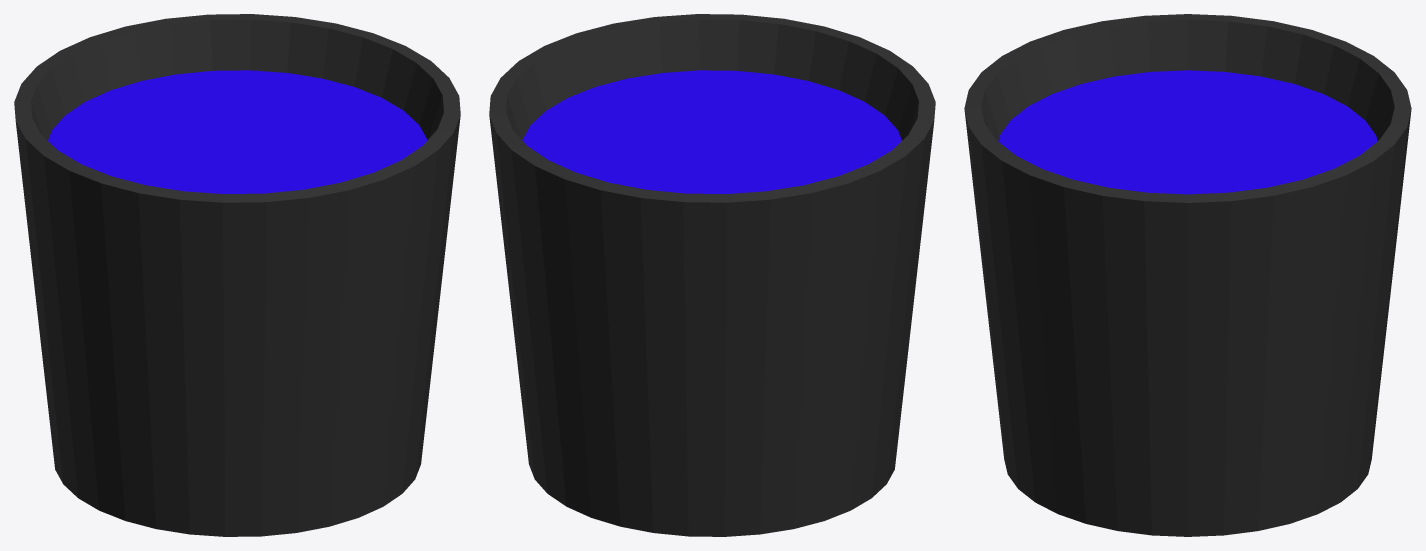
File: item_waterbucket-filled.glb
The picture shows the model from 3 angles, left to right: view 1: azimuth 30°, elevation 25°; view 2: azimuth 150°, elevation 25°; view 3: azimuth 270°, elevation 25°; orthographic projection.
Parts seen in each view (by area): view 1: Cylinder; view 2: Cylinder; view 3: Cylinder.
Boxes of the visible parts, x1,y1,x2,y2 form: Cylinder: [14, 14, 460, 536]; Cylinder: [489, 14, 935, 536]; Cylinder: [964, 14, 1411, 536].
Bounding box in the file's own units: 1.18 × 1.02 × 1.18.
